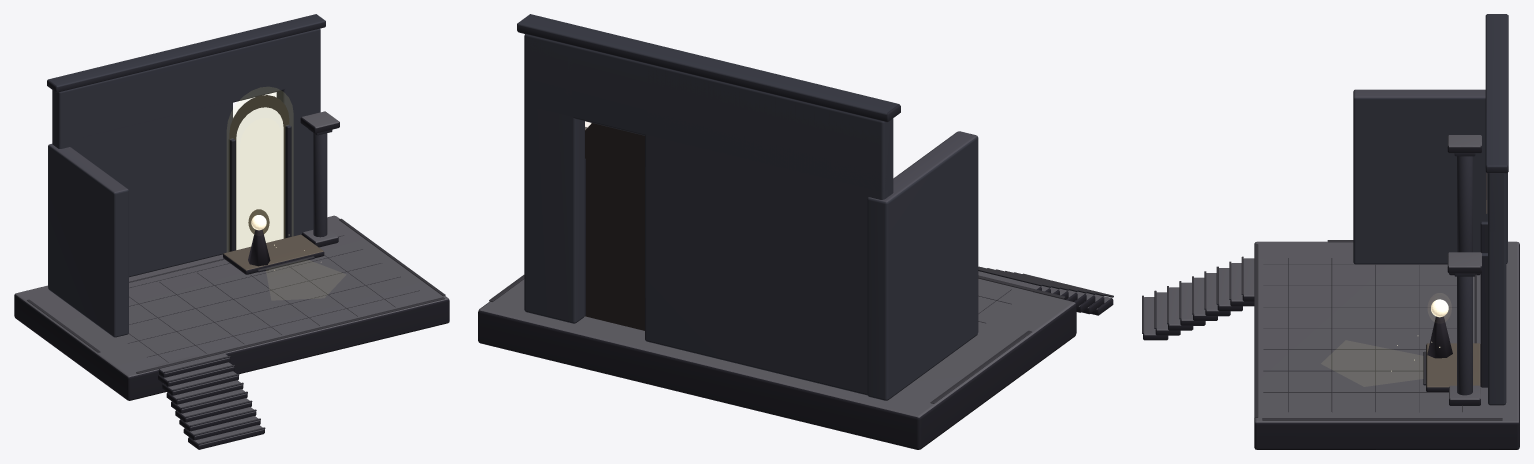
Rendered from threshold-room.glb.
3 renders of one model, left to right at view 1: azimuth 30°, elevation 25°; view 2: azimuth 150°, elevation 25°; view 3: azimuth 270°, elevation 25°, orthographic. The views are drawn at different scales.
Parts seen in each view (by area): view 1: Room_Platform, Room_Wall_Left, Room_Wall_Above, Room_Return_Wall, Stairs, Door_Glow, Room_Wall_Right, Room_Wall_Top_Cap, Door_Landing, Door_Aperture, Room_Column_2, Room_Platform_Front_Edge (+4 smaller); view 2: Room_Wall_Left, Room_Platform, Room_Wall_Above, Room_Return_Wall, Room_Wall_Right, Door_Aperture, Room_Wall_Top_Cap, Stairs; view 3: Room_Platform, Room_Return_Wall, Stairs, Room_Wall_Right, Room_Wall_Top_Cap, Room_Column_2, Room_Column_1, Door_Landing, Room_Wall_Above, Door_Reveal_Right, Room_Platform_Front_Edge, Room_Column_2_Cap_Top (+4 smaller).
Part boxes in pixels (x1,y1,x2,y2): Room_Platform: [14, 215, 449, 400]; Room_Wall_Left: [52, 50, 232, 277]; Room_Wall_Above: [52, 29, 320, 143]; Room_Return_Wall: [48, 144, 128, 337]; Stairs: [155, 353, 264, 449]; Door_Glow: [236, 107, 283, 249]; Room_Wall_Right: [276, 28, 320, 236]; Room_Wall_Top_Cap: [47, 14, 325, 92]; Door_Landing: [223, 234, 324, 274]; Door_Aperture: [229, 95, 289, 249]; Room_Column_2: [313, 133, 327, 237]; Room_Platform_Front_Edge: [136, 297, 444, 373]; Room_Wall_Left: [645, 64, 893, 395]; Room_Platform: [478, 279, 1076, 449]; Room_Wall_Above: [524, 34, 892, 191]; Room_Return_Wall: [867, 131, 978, 400]; Room_Wall_Right: [524, 35, 584, 323]; Door_Aperture: [585, 123, 644, 330]; Room_Wall_Top_Cap: [517, 14, 900, 122]; Stairs: [978, 271, 1113, 315]; Room_Platform: [1254, 241, 1519, 449]; Room_Return_Wall: [1353, 89, 1507, 264]; Stairs: [1143, 258, 1263, 340]; Room_Wall_Right: [1488, 173, 1506, 405]; Room_Wall_Top_Cap: [1485, 14, 1508, 173]; Room_Column_2: [1457, 276, 1472, 395]; Room_Column_1: [1457, 156, 1472, 252]; Door_Landing: [1426, 343, 1480, 391]; Room_Wall_Above: [1488, 173, 1506, 231]; Door_Reveal_Right: [1480, 253, 1487, 387]; Room_Platform_Front_Edge: [1254, 244, 1258, 417]; Room_Column_2_Cap_Top: [1447, 252, 1481, 273].
Size of the model in its own units: 3.75 by 2.82 by 3.3.
